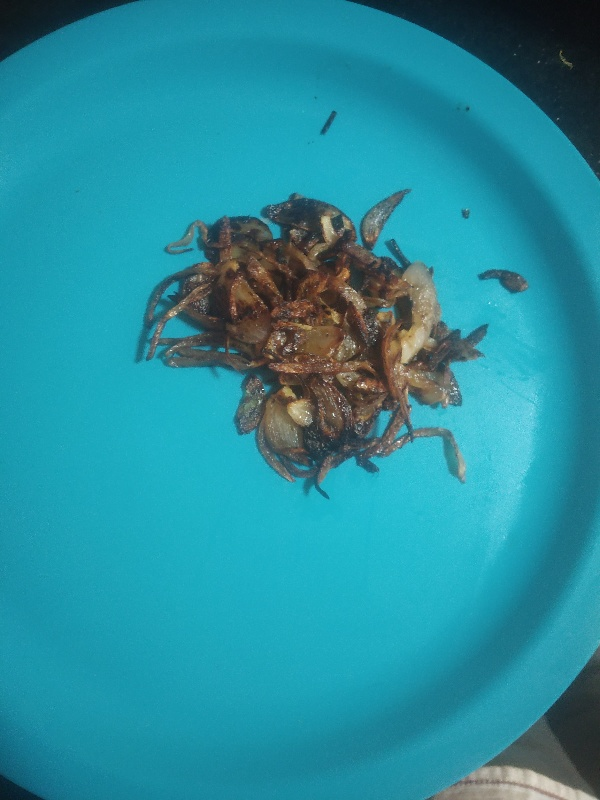onion_burnt: (172, 175, 508, 498)
